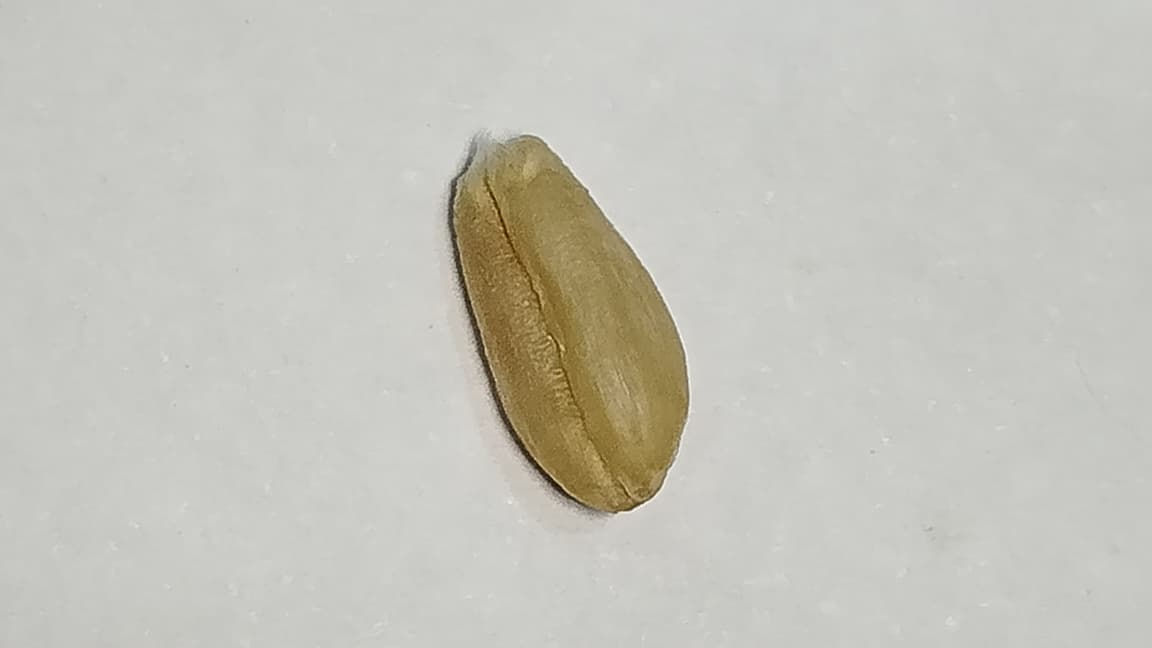healthy: (448, 131, 690, 513)
